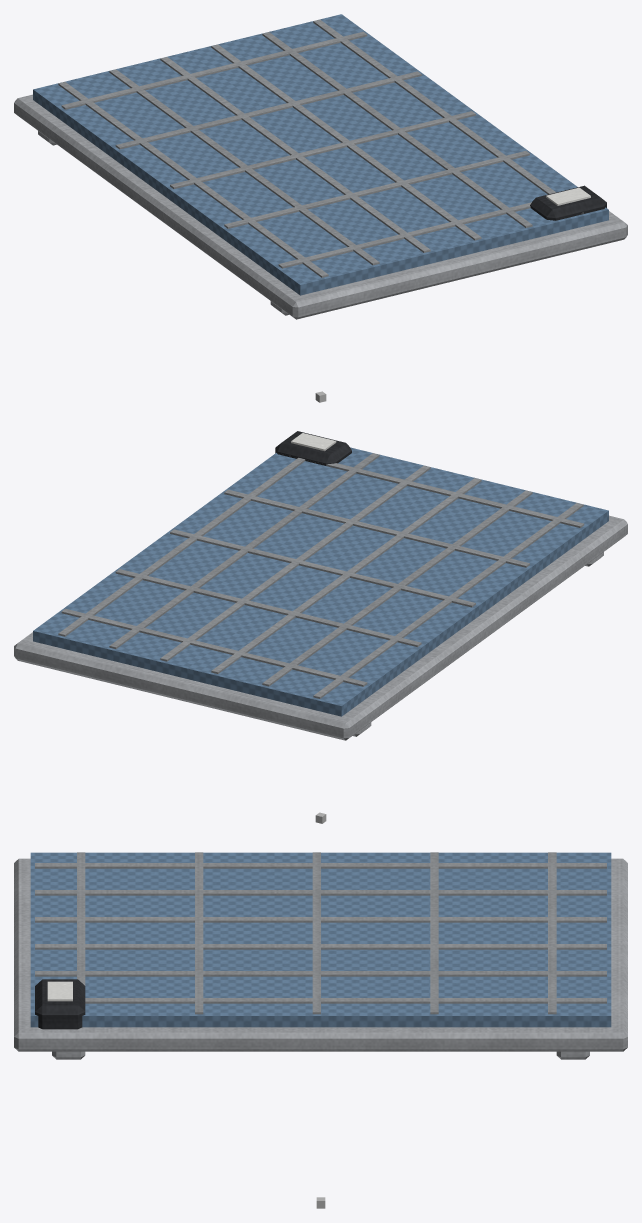
The model's file is rv_furn_solar.gltf.
3 views of the same model, one above another, from view 1: azimuth 30°, elevation 25°; view 2: azimuth 150°, elevation 25°; view 3: azimuth 270°, elevation 25° (orthographic). The views are drawn at different scales.
Parts seen in each view (by area): view 1: RV_Furn_Solar; view 2: RV_Furn_Solar; view 3: RV_Furn_Solar.
Boxes of the visible parts, box(x1,y1,x2,y2) form: RV_Furn_Solar: box(14, 14, 627, 402); RV_Furn_Solar: box(14, 431, 627, 823); RV_Furn_Solar: box(14, 852, 627, 1208).
Bounding box in the file's own units: 1 × 0.745 × 1.46.
Materials: 6 (5 with a texture image).
